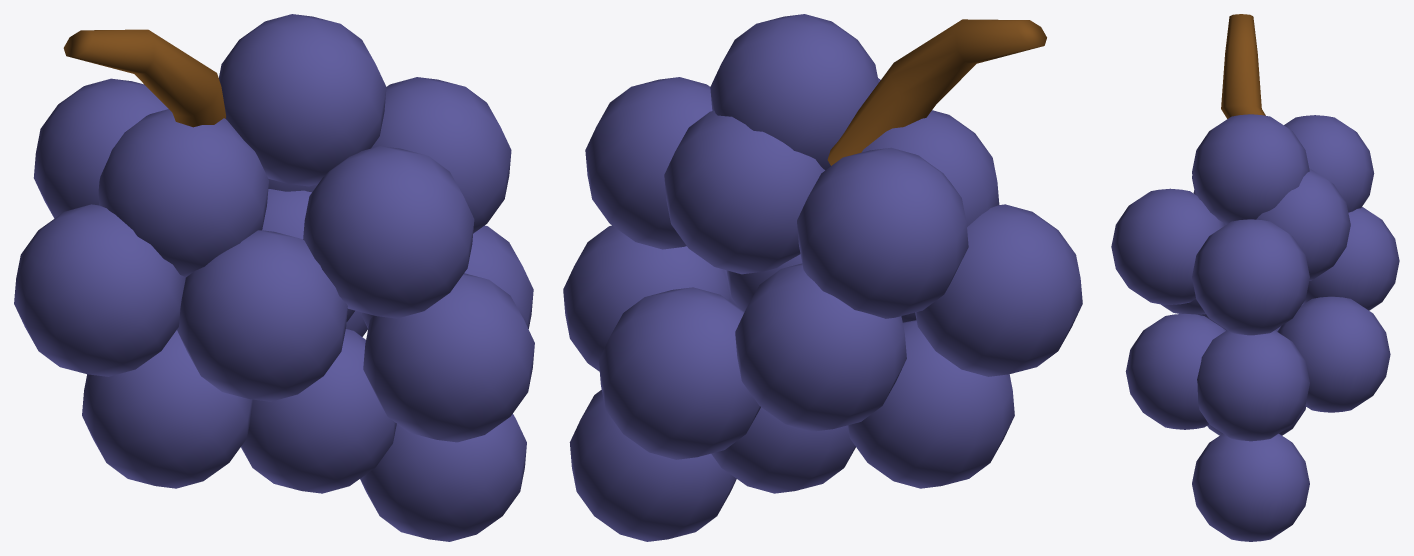
File: SM_Trauben.fbx
3 renders of one model, left to right at view 1: azimuth 30°, elevation 25°; view 2: azimuth 150°, elevation 25°; view 3: azimuth 270°, elevation 25°, orthographic. The views are drawn at different scales.
Visible parts, largest first — view 1: Trauben.001; view 2: Trauben.001; view 3: Trauben.001.
Boxes of the visible parts, x1=… form: Trauben.001: x1=14, y1=14, x2=534, y2=541; Trauben.001: x1=563, y1=14, x2=1082, y2=541; Trauben.001: x1=1111, y1=14, x2=1399, y2=541.
Size of the model in its own units: 49.33 by 56.46 by 36.51.
